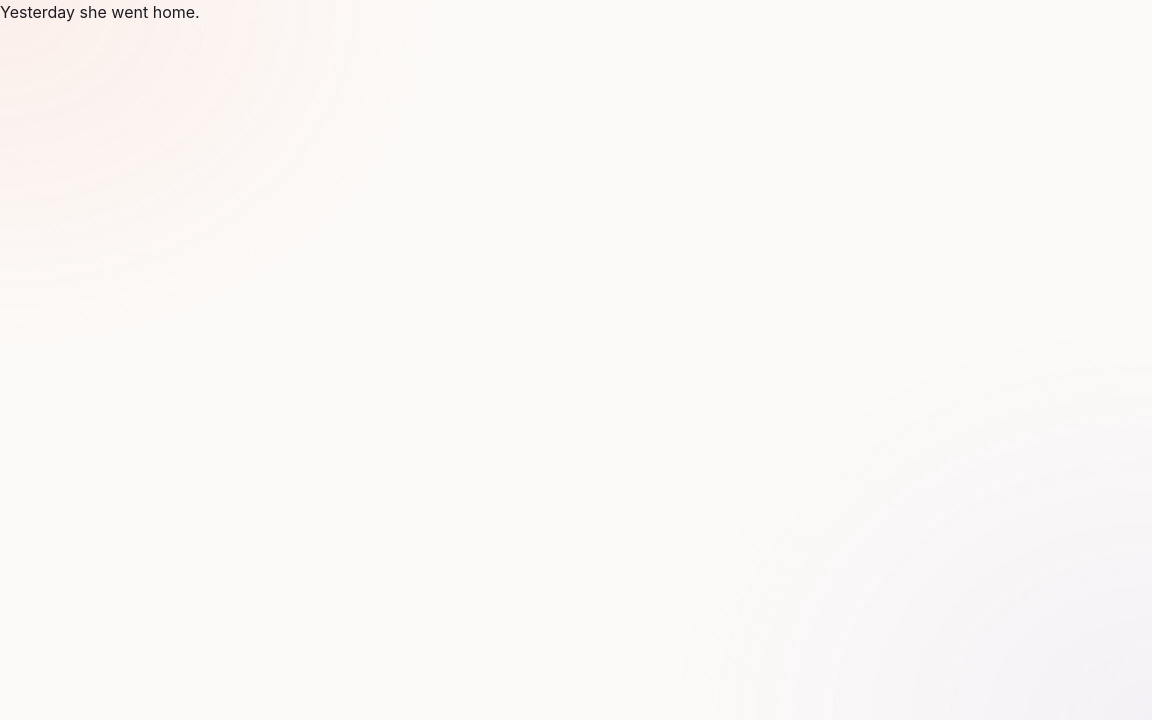
Test: WordPopup › adds the base form to the word list
The image size is (1152, 720).
What coordinates should you click on to do the following:
click the text "went"
I would click on:
 (130, 12)
Its box is [111,2,148,22].
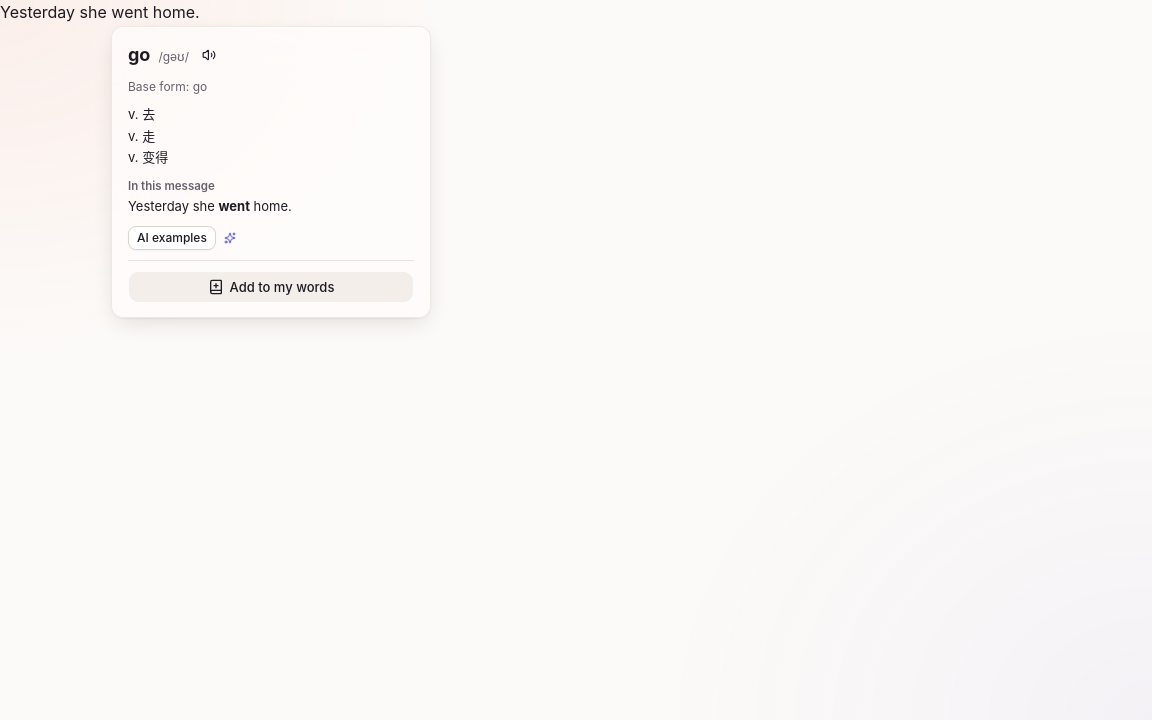
What coordinates should you click on to do the following:
click the button "Add to my words"
I would click on:
 (271, 287)
Its box is [128,271,414,303].
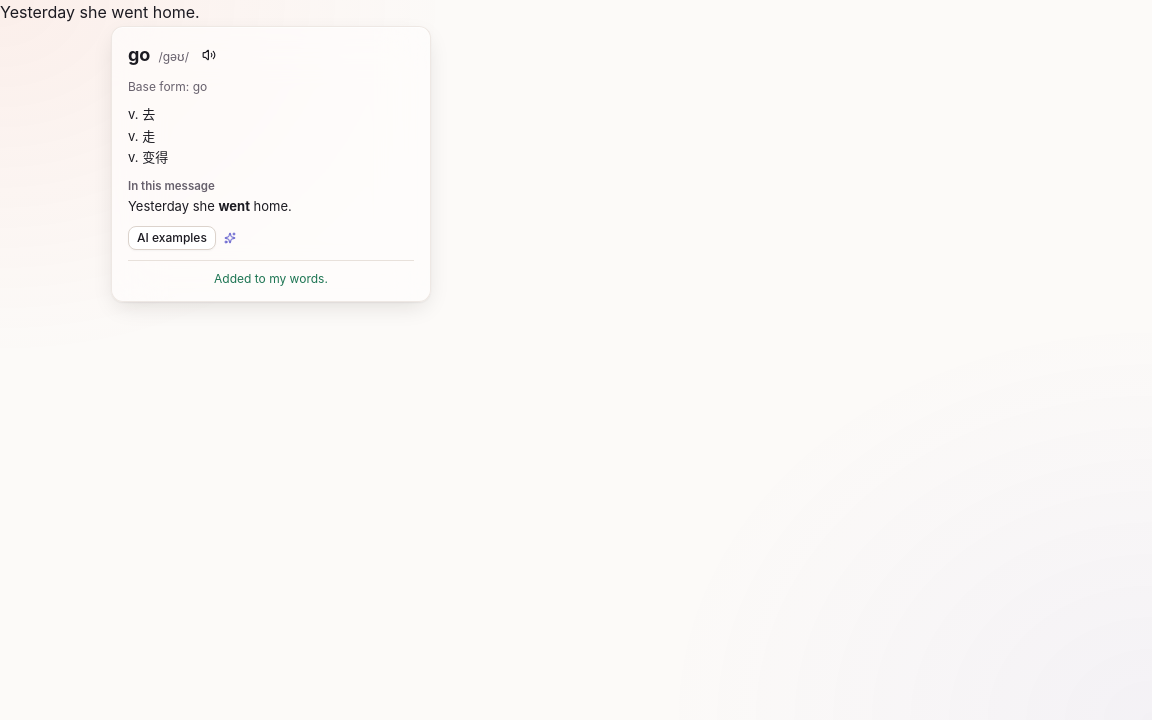
Expected: the message reads "Added to my words.", [214,271,328,286]
